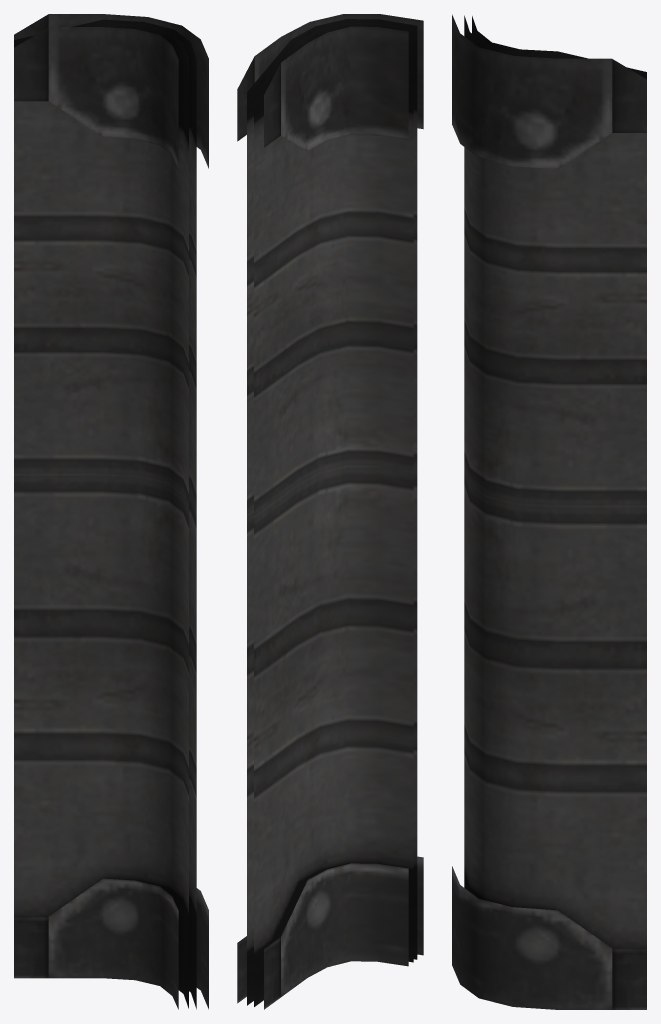
The model's file is p6_metal_panel_railing_90r_lod1.glb.
The picture shows the model from 3 angles, left to right: view 1: azimuth 90°, elevation 25°; view 2: azimuth 150°, elevation 25°; view 3: azimuth 270°, elevation 25°; orthographic projection.
Parts seen in each view (by area): view 1: surf0; view 2: surf0; view 3: surf0.
Boxes of the visible parts, bbox=[...] form: surf0: bbox=[14, 14, 208, 1009]; surf0: bbox=[237, 14, 423, 1009]; surf0: bbox=[452, 14, 646, 1009].
Bounding box in the file's own units: 3.54 × 35.03 × 6.51.
